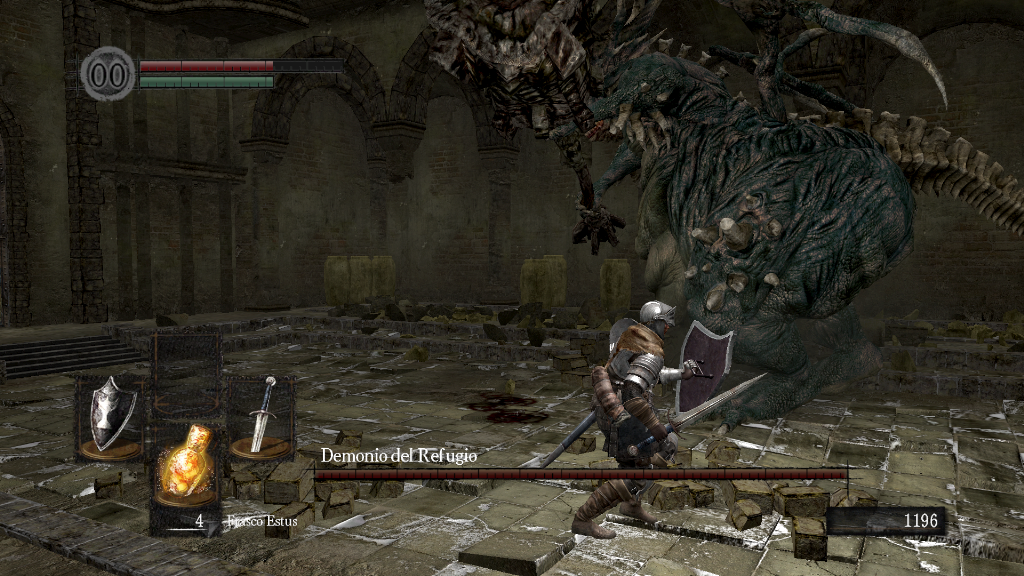asylumDemon: (416, 2, 1024, 431)
bossHP: (314, 469, 847, 479)
health: (138, 58, 343, 71)
humanity: (80, 45, 136, 102)
player: (569, 300, 769, 540)
souls: (825, 506, 945, 536)
stamina: (138, 74, 274, 88)
